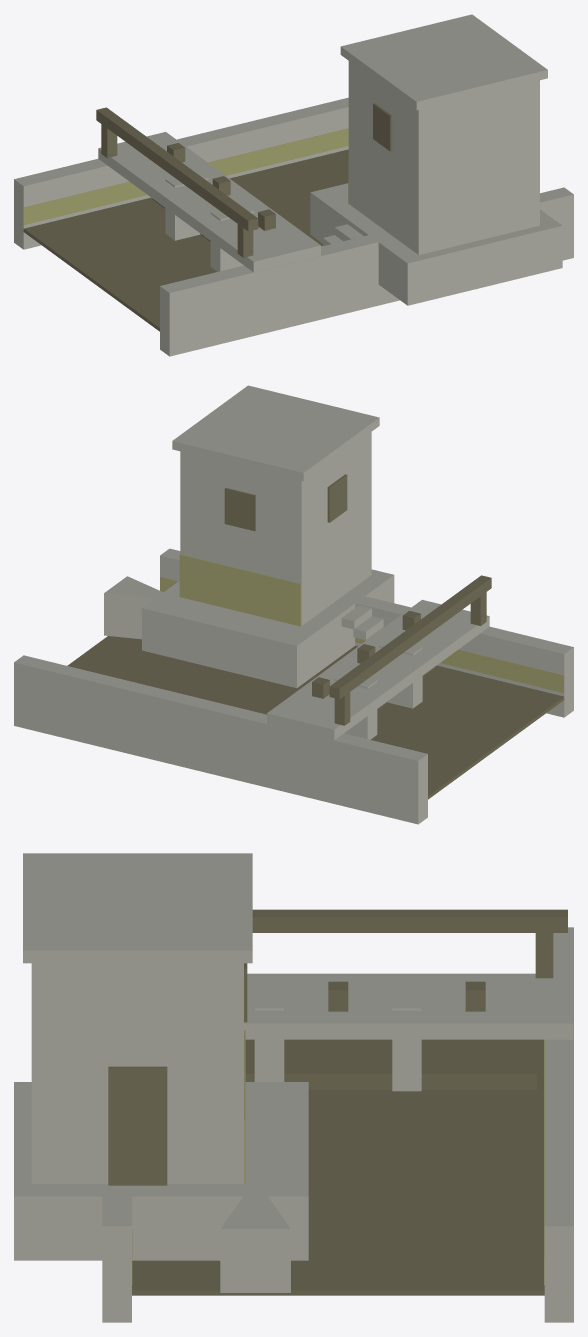
File: SM_CasetaCompuertas_v2_Escalera_LOD1.fbx
The picture shows the model from 3 angles, top to bottom: view 1: azimuth 30°, elevation 25°; view 2: azimuth 150°, elevation 25°; view 3: azimuth 270°, elevation 25°; orthographic projection. The views are drawn at different scales.
Parts seen in each view (by area): view 1: SM_bloques.caseta_compuertas_v2_LOD1; view 2: SM_bloques.caseta_compuertas_v2_LOD1; view 3: SM_bloques.caseta_compuertas_v2_LOD1.
Part boxes in pixels (left/top/right/bottom): SM_bloques.caseta_compuertas_v2_LOD1: left=14, top=14, right=573, bottom=356; SM_bloques.caseta_compuertas_v2_LOD1: left=14, top=385, right=573, bottom=824; SM_bloques.caseta_compuertas_v2_LOD1: left=14, top=853, right=573, bottom=1322.
Size of the model in its own units: 12.1 by 6.24 by 9.5.
